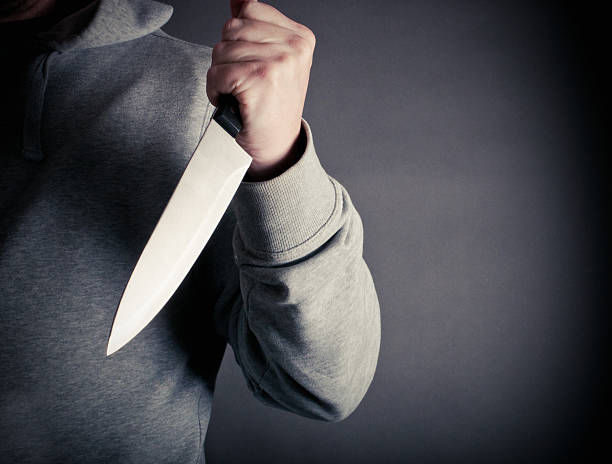knife: (103, 101, 255, 359)
